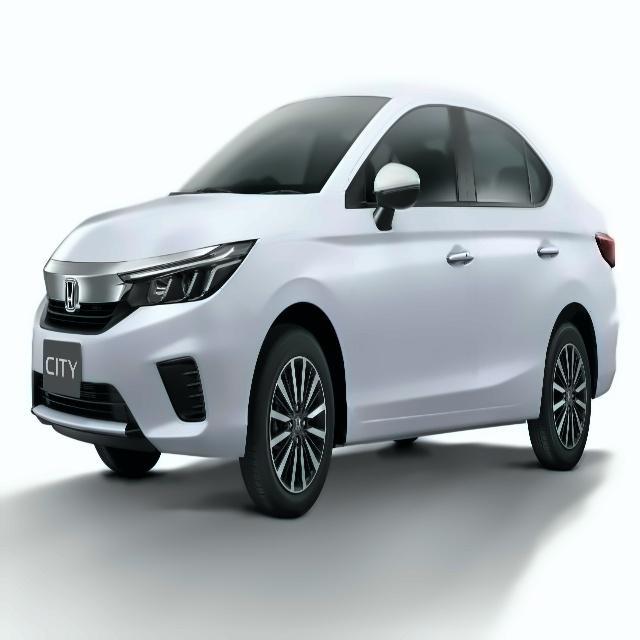Car hood: (43, 187, 320, 268)
Fender - -F-L-: (239, 189, 356, 474)
Fender - -R-L-: (539, 162, 612, 427)
Front bumper: (19, 303, 273, 463)
Headlight - -L-: (120, 237, 252, 315)
Passenger-s door - -F-L-: (335, 77, 483, 469)
Passenger-s door - -R-L-: (447, 70, 564, 470)
Rear bumper: (587, 315, 627, 408)
Rear light - -L-: (591, 229, 619, 275)
Side bumper - -L-: (329, 394, 551, 471)
Side mirror - -L-: (368, 159, 427, 237)
